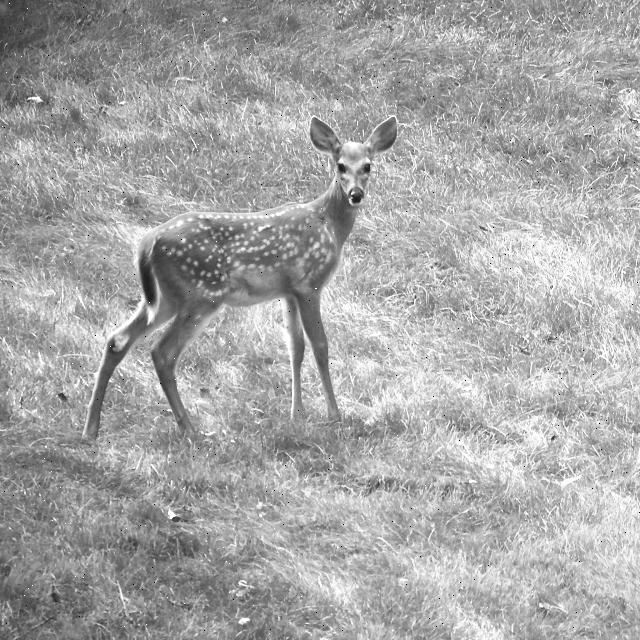deer: (63, 84, 417, 438)
